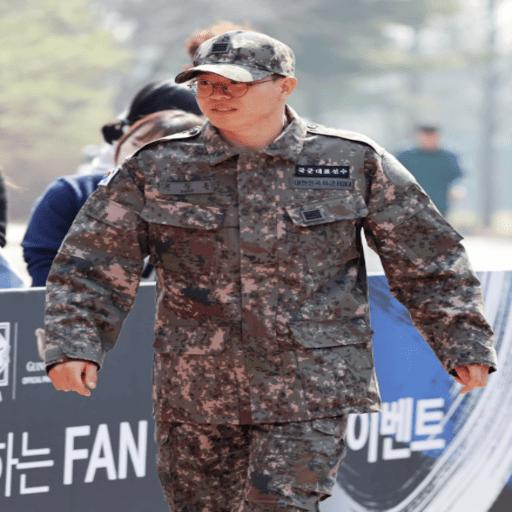korea army: (41, 28, 498, 510)
